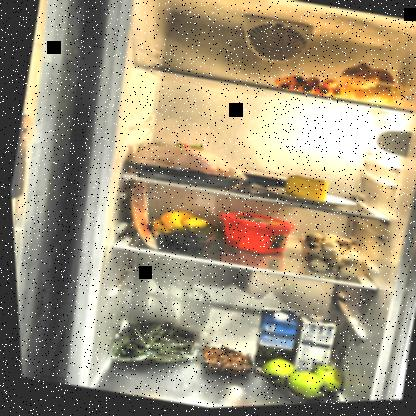apple: (250, 353, 344, 407)
banana: (143, 202, 230, 251)
blueberries: (149, 224, 213, 263)
butter: (209, 205, 296, 264)
carrot: (269, 66, 346, 107)
cheese: (278, 173, 331, 210)
chicken: (124, 134, 253, 201)
green_beans: (104, 312, 201, 379)
milk: (241, 307, 300, 384), (284, 314, 340, 391)
mushrooms: (286, 228, 366, 286)
onion: (331, 59, 402, 113)
shrimp: (196, 340, 250, 380)
